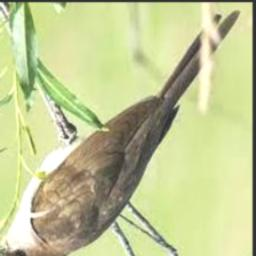Cuckoo: (0, 10, 241, 256)
